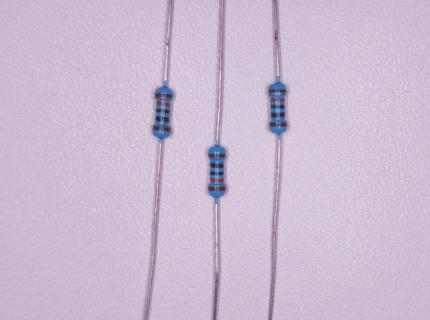Black band: (156, 116, 169, 123), (271, 112, 285, 118), (156, 109, 170, 114), (271, 104, 285, 109), (210, 163, 224, 168), (210, 171, 224, 175)
Brown band: (152, 125, 171, 132), (208, 187, 226, 192), (155, 93, 173, 98), (268, 89, 287, 93), (208, 154, 226, 158), (270, 123, 287, 127)
Orange band: (156, 101, 171, 107), (210, 178, 224, 183), (270, 98, 285, 102)
